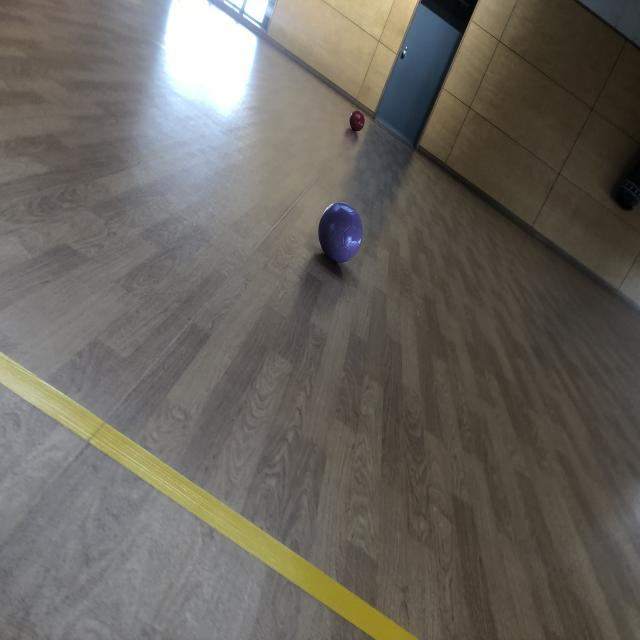purple_ball: (319, 203, 362, 260)
red_ball: (350, 112, 366, 132)
